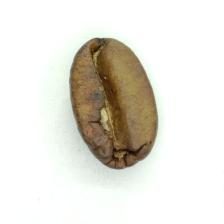NG: (72, 48, 122, 159)
